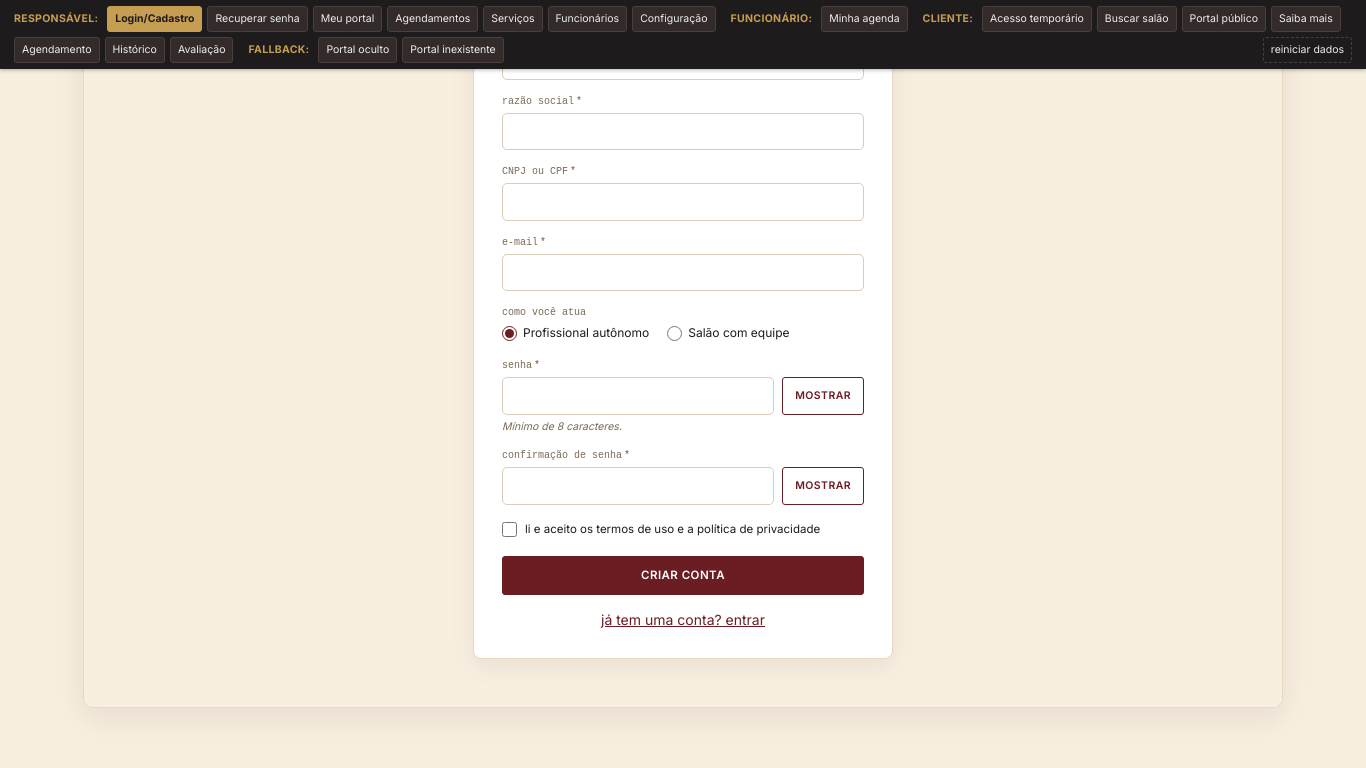
Scenario: login › cadastro valida campos antes de enviar
(page scrolled)
Click the button "Criar conta".
click(683, 575)  # box [502,556,864,595]
(page scrolled)
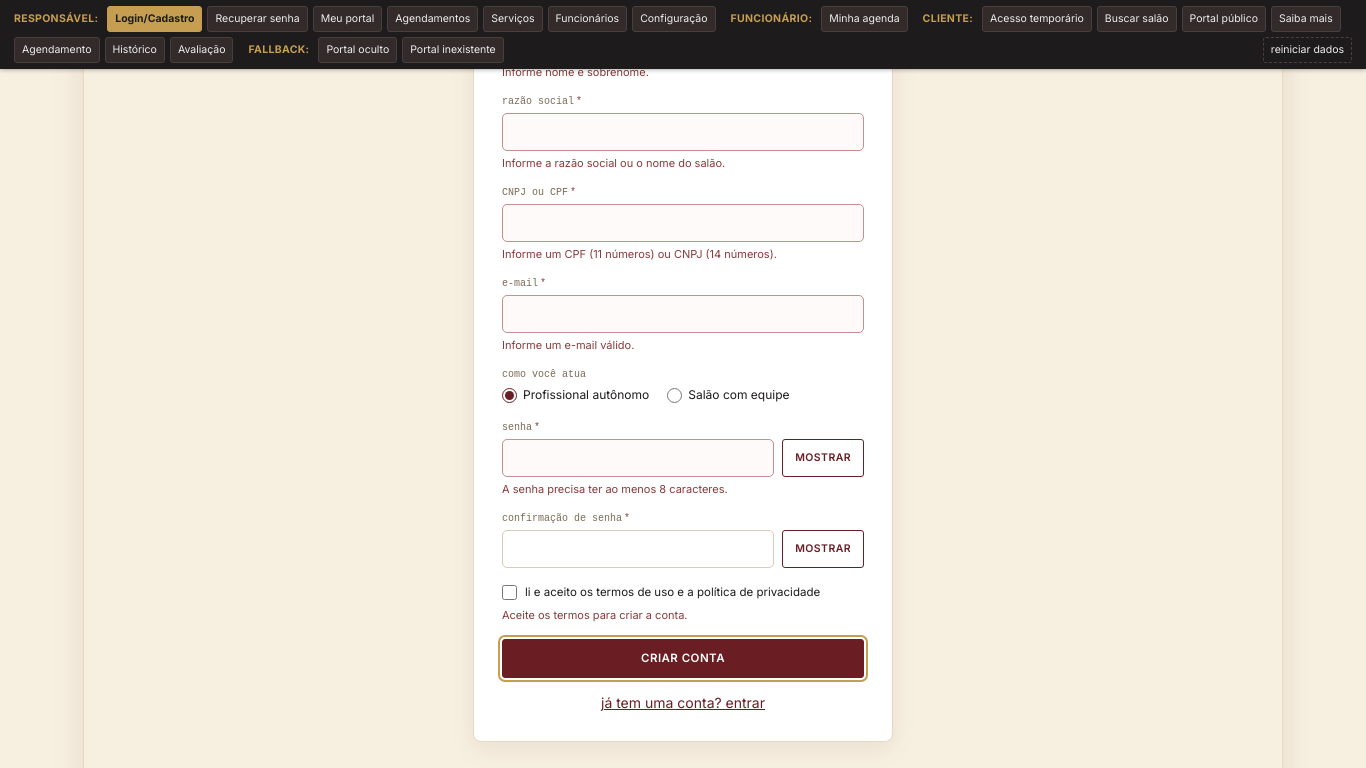
Check: the text "Informe nome e sobrenome." is shown, box [502,64,649,78]
Check: the text "Aceite os termos para criar a conta." is shown, box [502,608,688,622]
